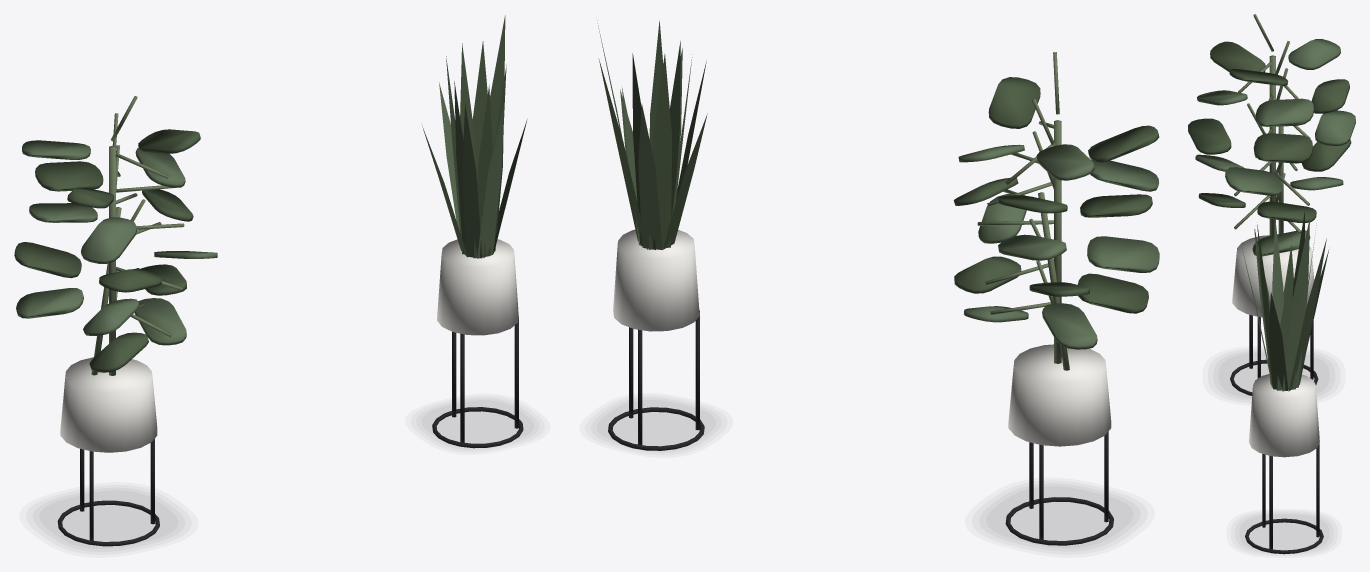
File: hall1f_entry_plants.glb
3 renders of one model, left to right at view 1: azimuth 30°, elevation 25°; view 2: azimuth 150°, elevation 25°; view 3: azimuth 270°, elevation 25°, orthographic. The views are drawn at different scales.
Visible parts, largest first — view 1: root; view 2: root; view 3: root.
Part boxes in pixels (x1=…): root: x1=14, y1=15, x2=534, y2=551; root: x1=596, y1=20, x2=1159, y2=550; root: x1=1188, y1=14, x2=1355, y2=554.
Bounding box in the file's own units: 2.24 × 1.84 × 0.7489.
